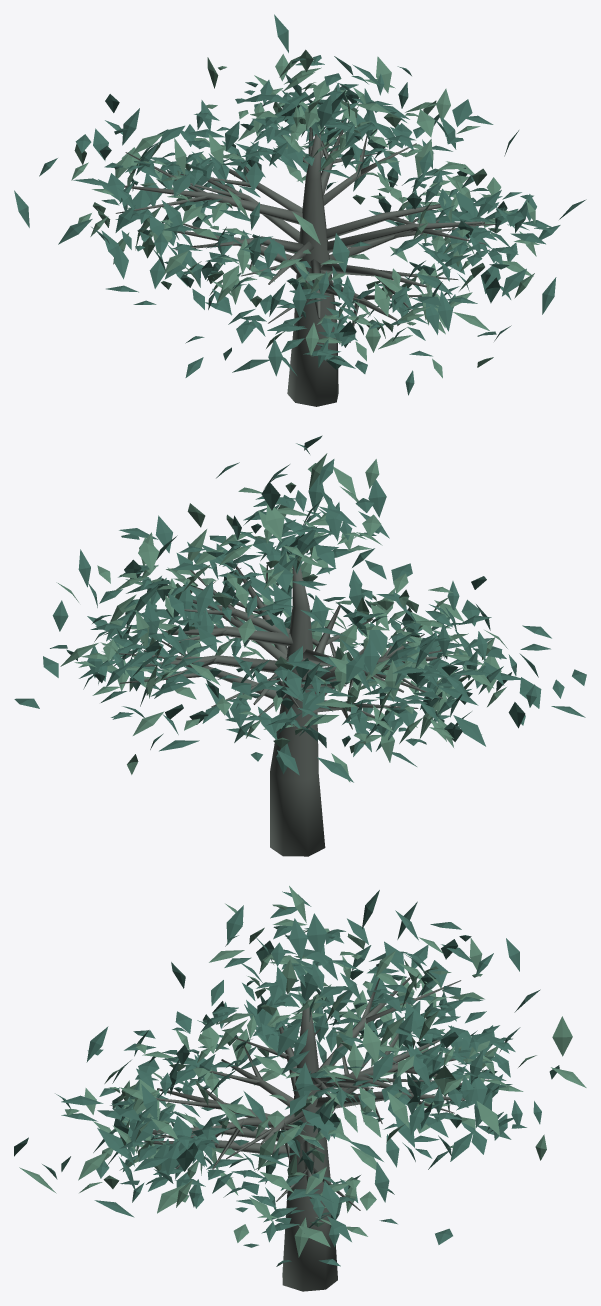
File: banyan_lod.glb
3 renders of one model, top to bottom at view 1: azimuth 30°, elevation 25°; view 2: azimuth 150°, elevation 25°; view 3: azimuth 270°, elevation 25°, orthographic. The views are drawn at different scales.
Parts seen in each view (by area): view 1: Moonwater banyan leaves, Moonwater banyan branches; view 2: Moonwater banyan leaves, Moonwater banyan branches; view 3: Moonwater banyan leaves, Moonwater banyan branches.
Boxes of the visible parts, bbox=[...] form: Moonwater banyan leaves: bbox=[14, 14, 586, 395]; Moonwater banyan branches: bbox=[115, 121, 495, 406]; Moonwater banyan leaves: bbox=[14, 435, 586, 782]; Moonwater banyan branches: bbox=[119, 565, 467, 856]; Moonwater banyan leaves: bbox=[14, 886, 586, 1266]; Moonwater banyan branches: bbox=[144, 977, 488, 1291].
Bounding box in the file's own units: 8.36 × 6.09 × 8.16.
